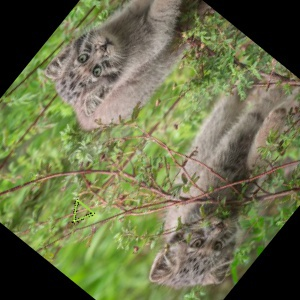triangle: (69, 195, 98, 224)
